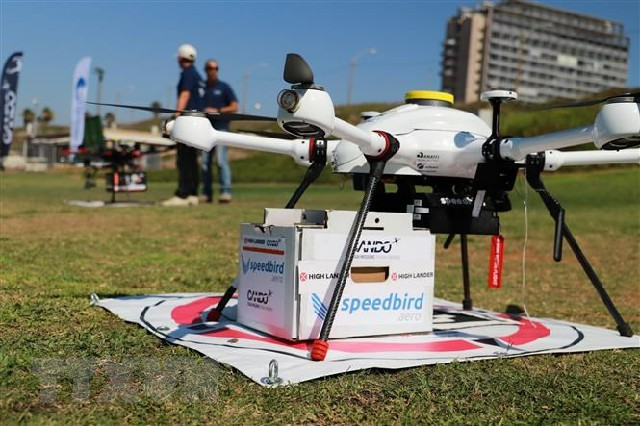maybay_khongnguoilai: (89, 83, 640, 339)
